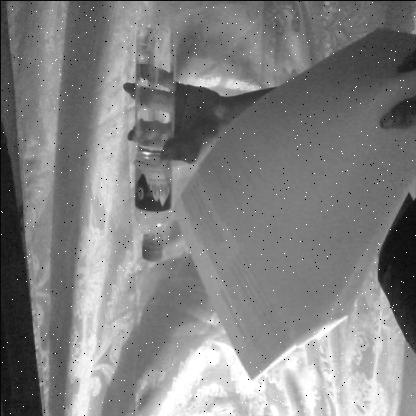Plastic Bottle: (102, 4, 183, 271)
